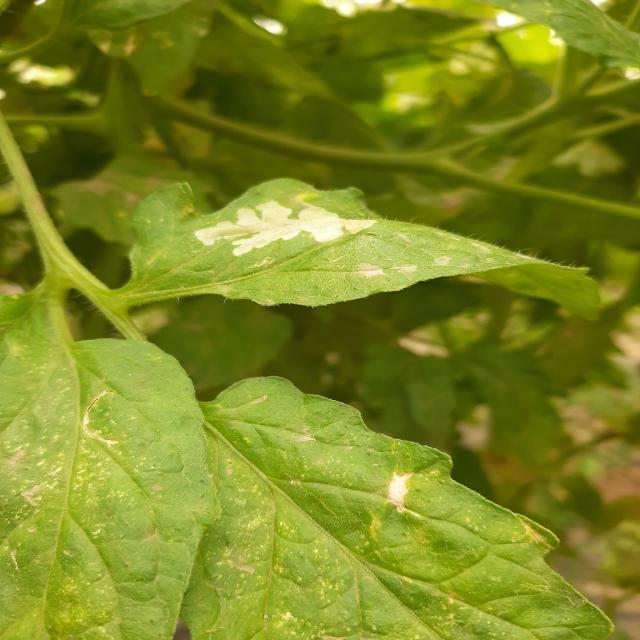Tuta absoluta: (191, 186, 378, 262), (384, 469, 413, 514), (384, 468, 412, 513)
